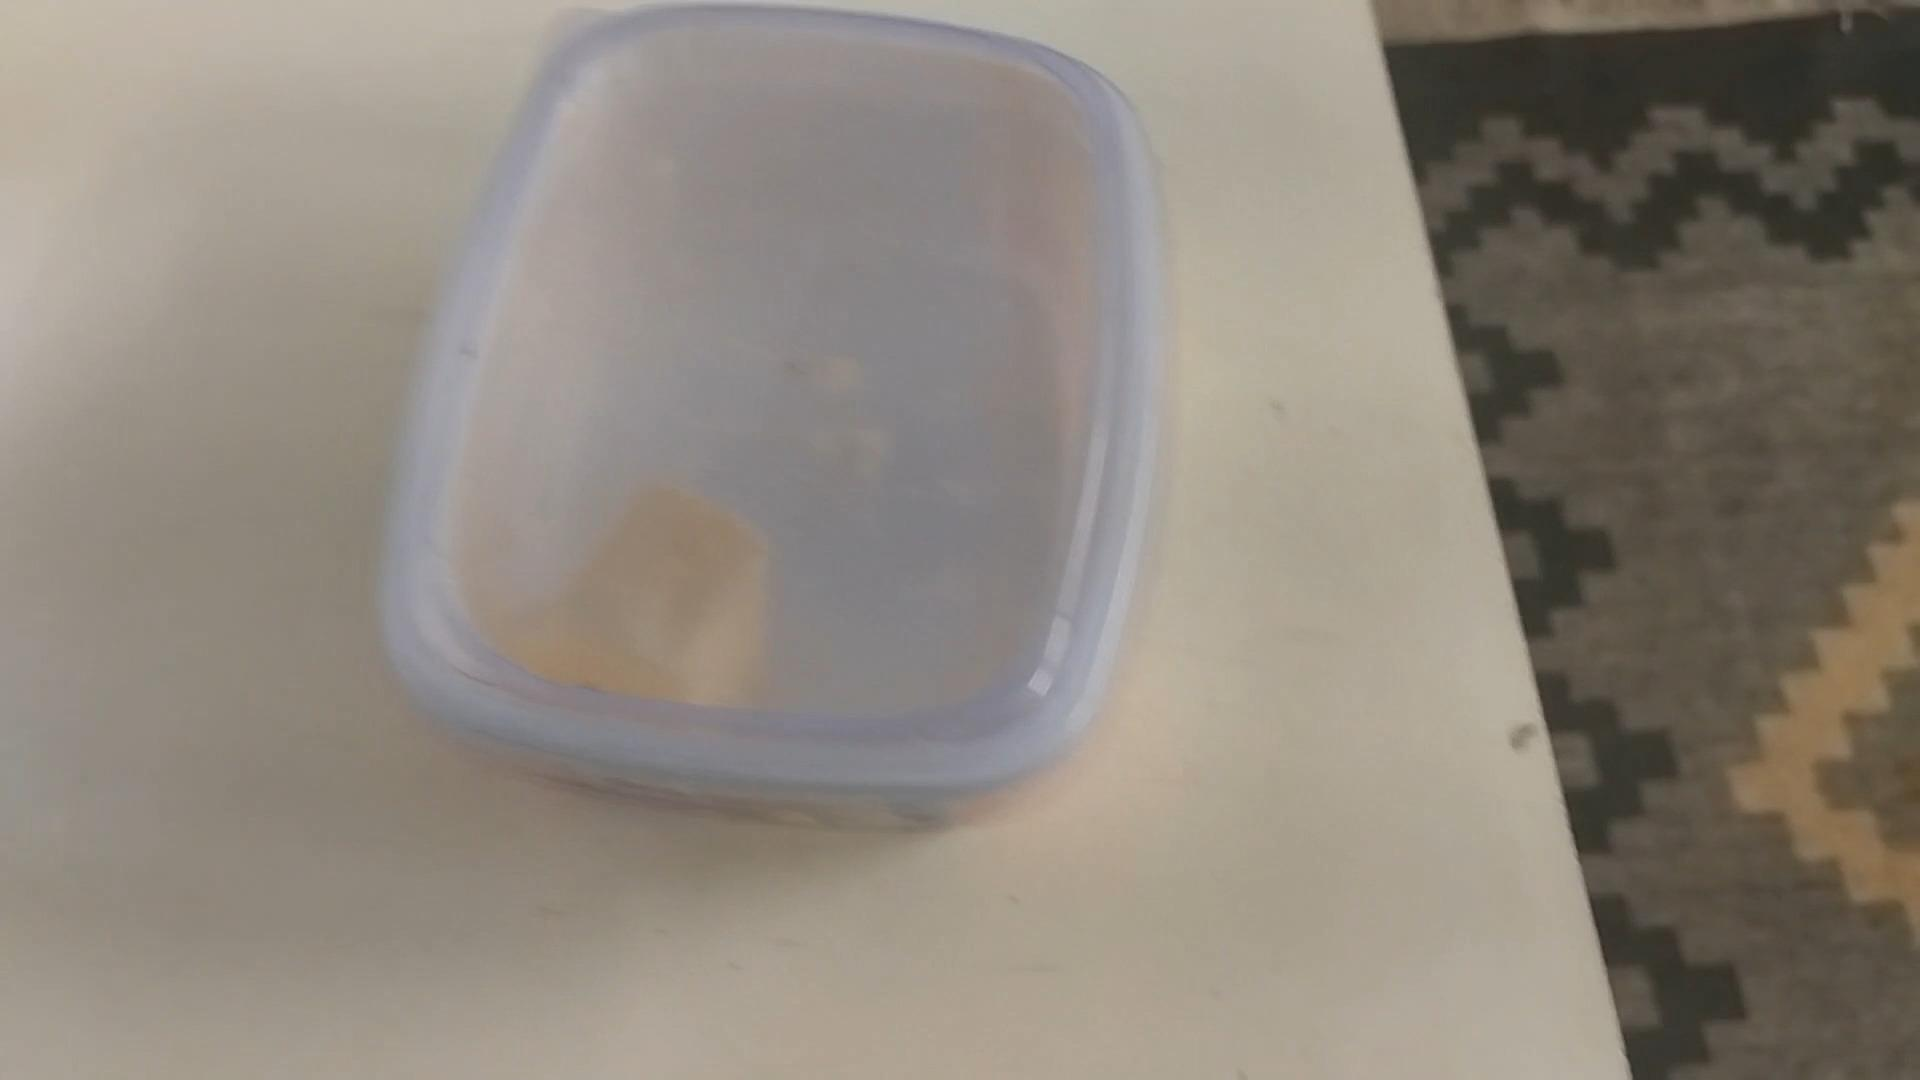butter: (386, 18, 1153, 829)
